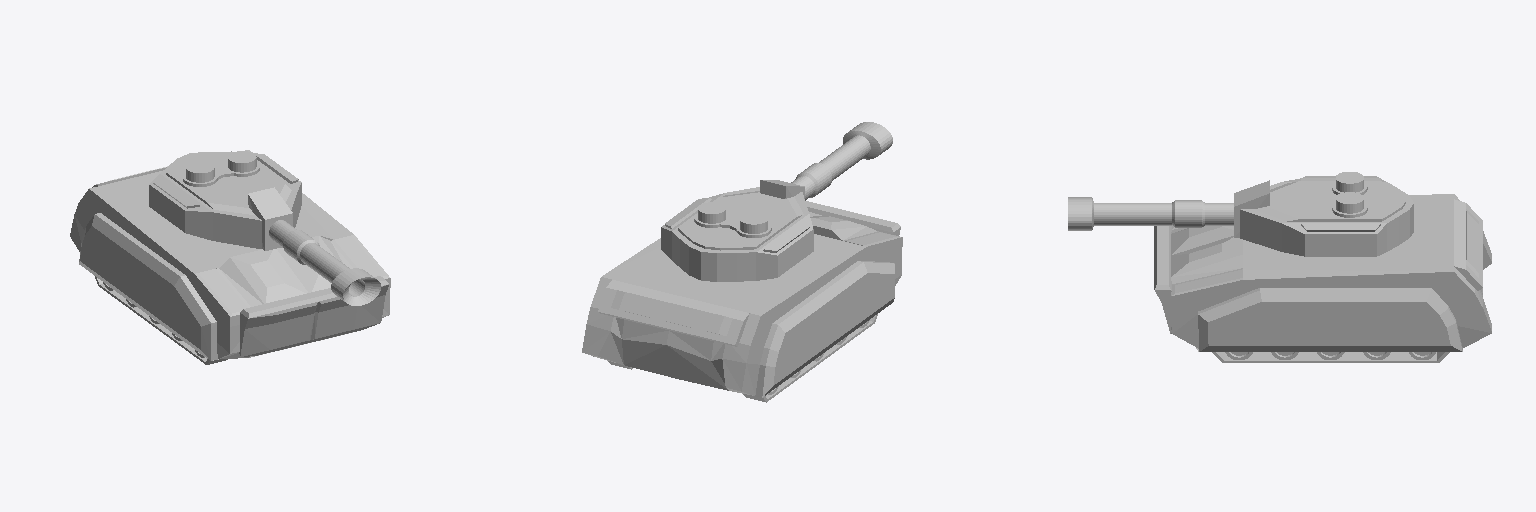
Rendered from tier3.obj.
3 views of the same model, side by side, from view 1: azimuth 30°, elevation 25°; view 2: azimuth 150°, elevation 25°; view 3: azimuth 270°, elevation 25° (orthographic).
Visible parts, largest first — view 1: Body3_Cube.086, Turret3_Cylinder.013, Main_Gun3_Cylinder.016, Tracks3_Cube.084; view 2: Body3_Cube.086, Turret3_Cylinder.013, Main_Gun3_Cylinder.016, Tracks3_Cube.084; view 3: Body3_Cube.086, Turret3_Cylinder.013, Main_Gun3_Cylinder.016, Tracks3_Cube.084, Road_Wheels3_Cube.085.
Part boxes in pixels (x1,y1,x2,y2): Body3_Cube.086: (70, 150, 390, 360); Turret3_Cylinder.013: (149, 151, 301, 248); Main_Gun3_Cylinder.016: (248, 187, 380, 305); Tracks3_Cube.084: (95, 276, 227, 364); Body3_Cube.086: (582, 201, 902, 397); Turret3_Cylinder.013: (661, 187, 813, 281); Main_Gun3_Cylinder.016: (760, 122, 892, 200); Tracks3_Cube.084: (608, 314, 877, 402); Body3_Cube.086: (1154, 194, 1491, 351); Turret3_Cylinder.013: (1240, 172, 1413, 256); Main_Gun3_Cylinder.016: (1068, 180, 1269, 237); Tracks3_Cube.084: (1212, 352, 1449, 362); Road_Wheels3_Cube.085: (1225, 352, 1435, 359).
Bounding box in the file's own units: 4.09 × 2.98 × 8.28.